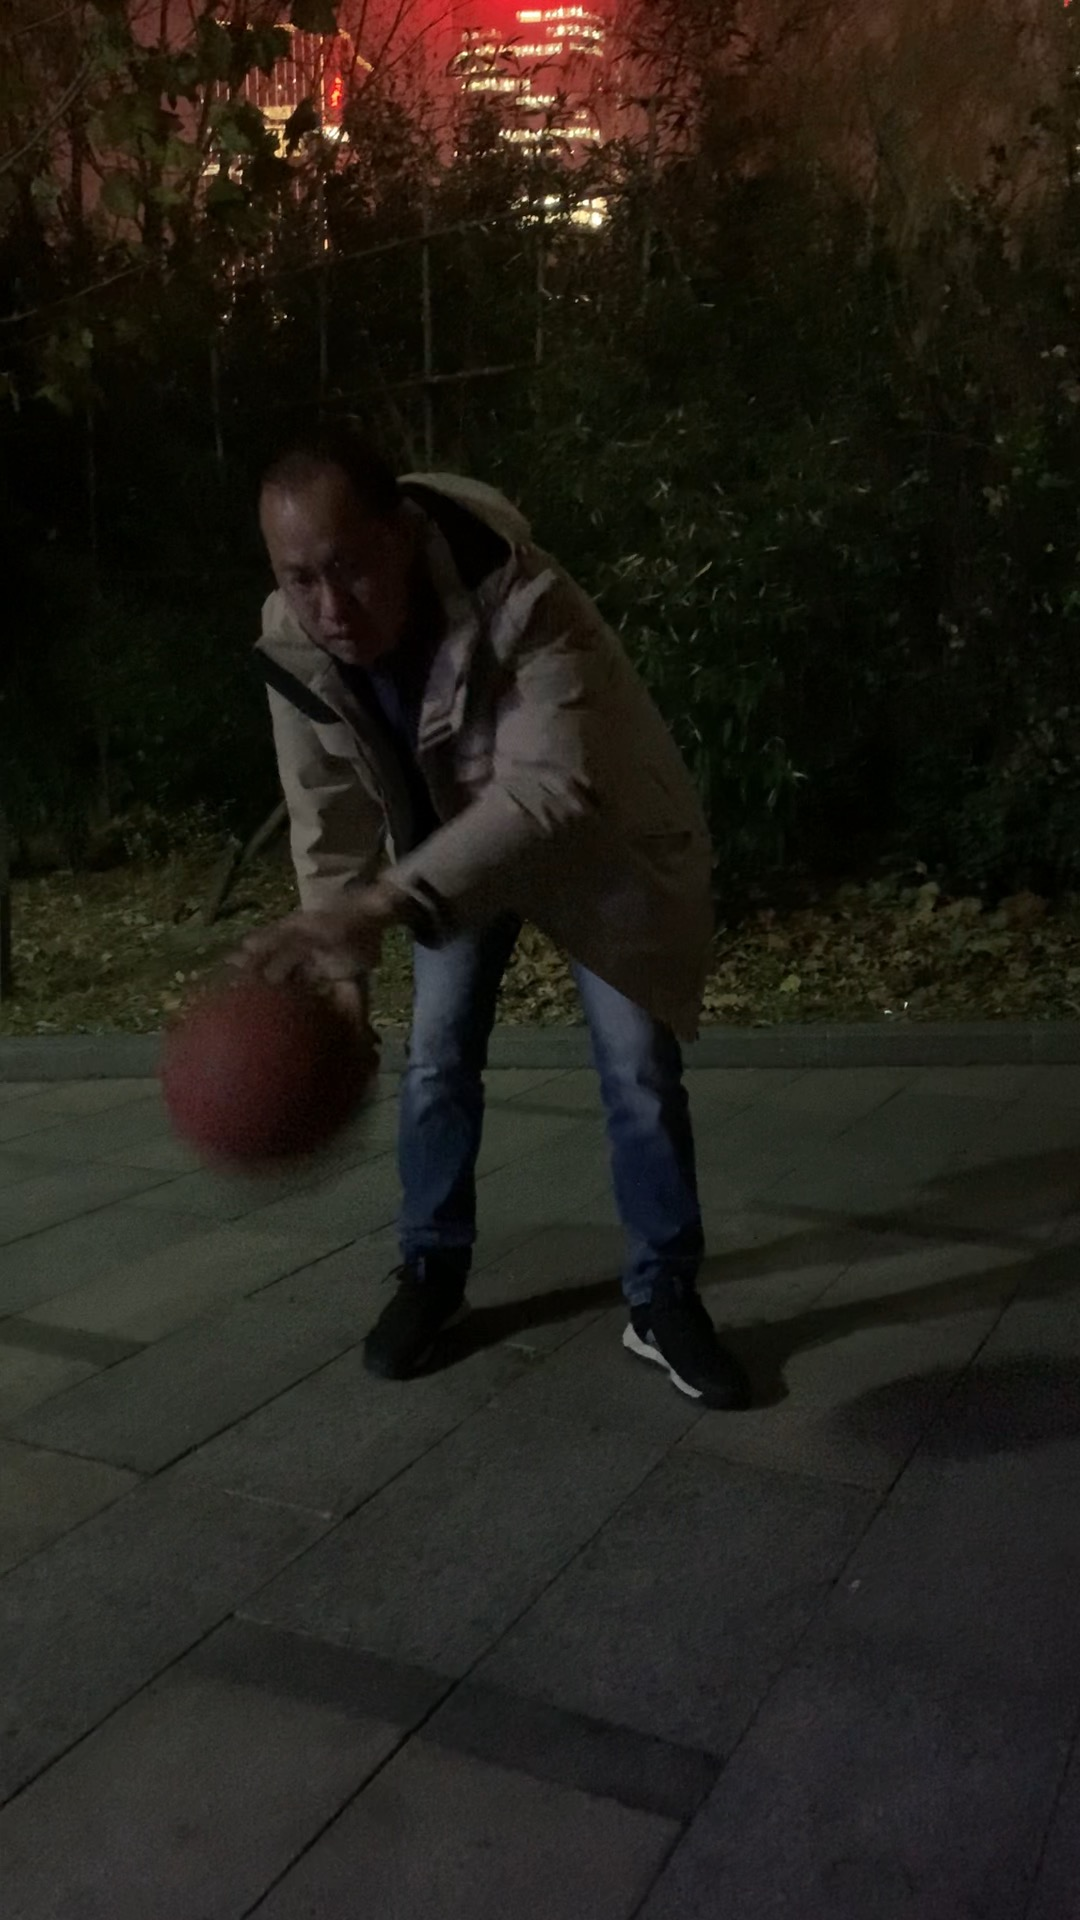ball: (169, 980, 381, 1180)
